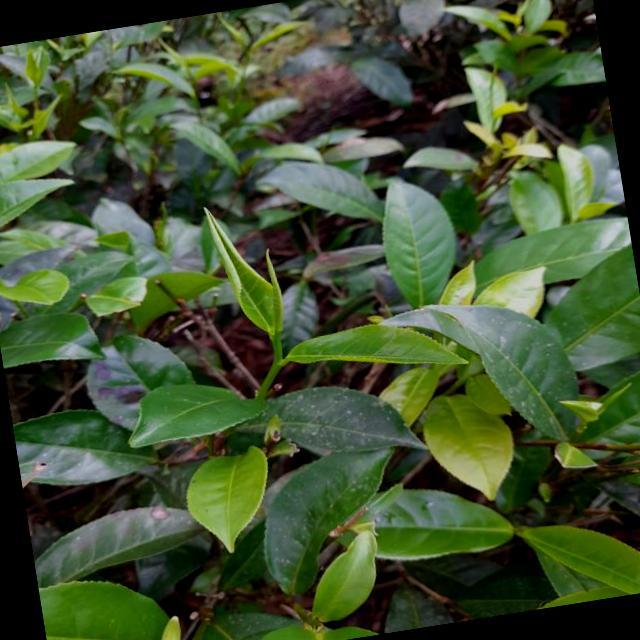Stem: (270, 363, 281, 374)
